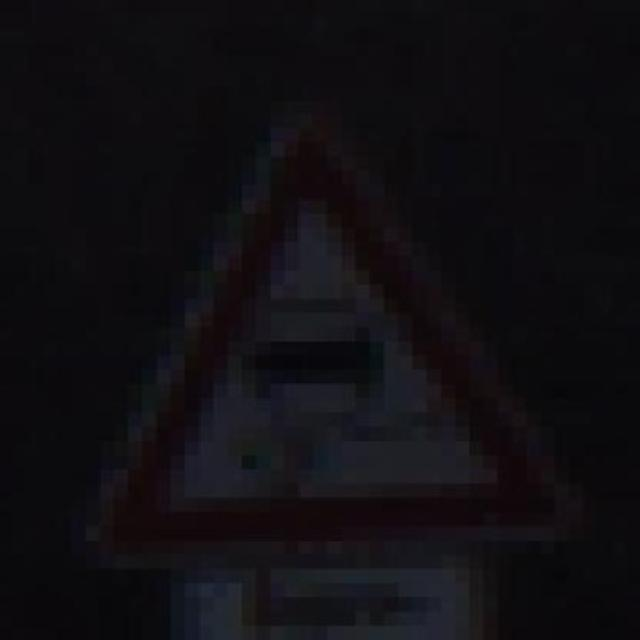Slippery Road Ahead: (56, 99, 598, 555)
